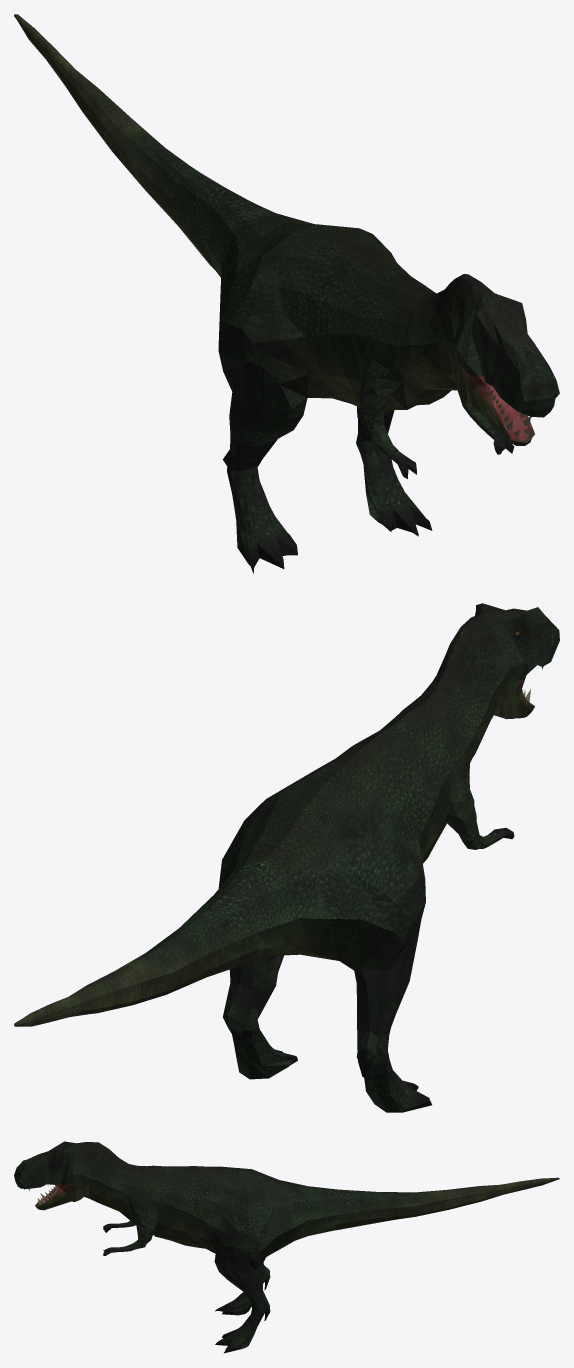
The model's file is TrexLOW.OBJ.
3 renders of one model, top to bottom at view 1: azimuth 30°, elevation 25°; view 2: azimuth 150°, elevation 25°; view 3: azimuth 270°, elevation 25°, orthographic. The views are drawn at different scales.
Parts seen in each view (by area): view 1: Cube.001; view 2: Cube.001; view 3: Cube.001.
Boxes of the visible parts, bbox=[...] form: Cube.001: bbox=[14, 14, 559, 573]; Cube.001: bbox=[14, 603, 559, 1112]; Cube.001: bbox=[14, 1141, 559, 1353].
Size of the model in its own units: 11.58 by 21.95 by 57.59.
1 material, 1 textured.
